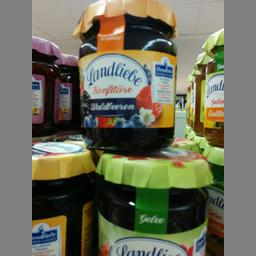jam: (76, 0, 178, 153), (97, 152, 209, 255), (30, 140, 96, 254)
